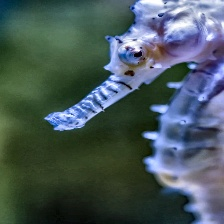seahorse: (43, 0, 222, 134)
